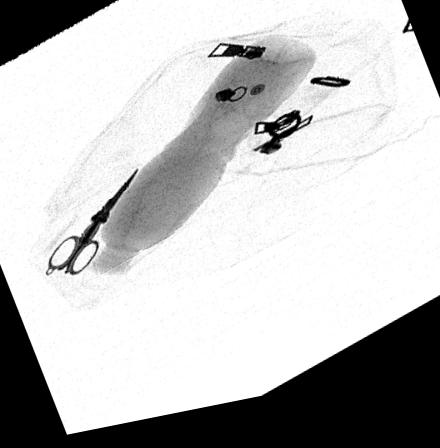Scissors: (44, 173, 141, 279)
